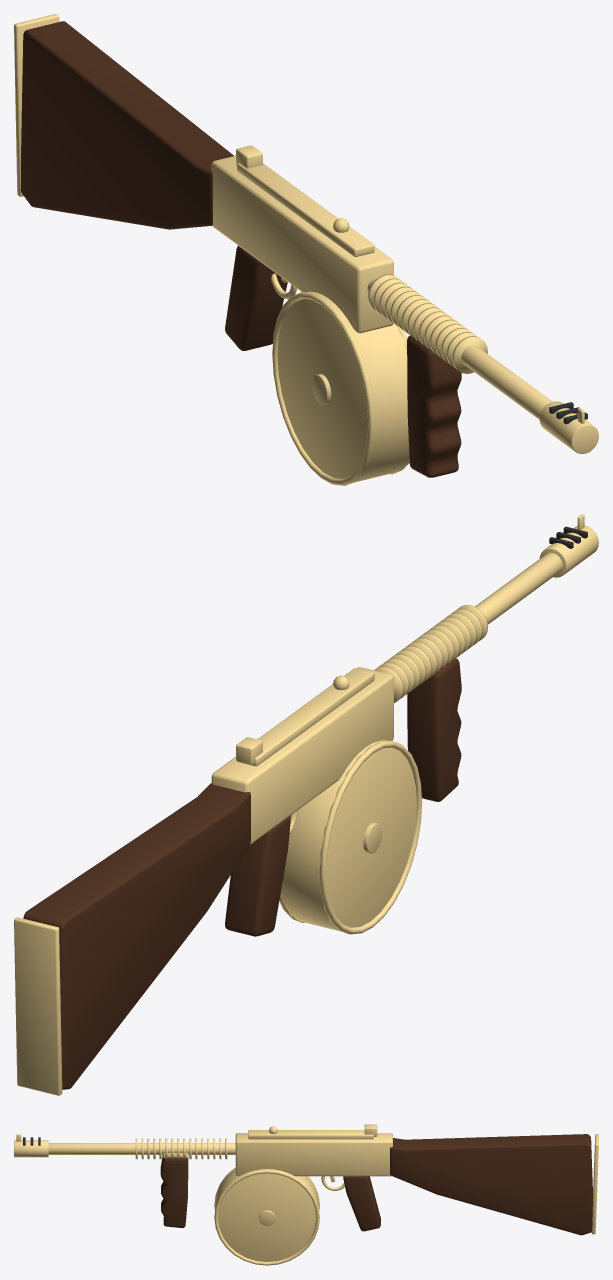
The model's file is thompson_gold.glb.
The picture shows the model from 3 angles, top to bottom: view 1: azimuth 30°, elevation 25°; view 2: azimuth 150°, elevation 25°; view 3: azimuth 270°, elevation 25°; orthographic projection. The views are drawn at different scales.
Parts seen in each view (by area): view 1: Stock, Drum, Receiver, ForeGrip, PistolGrip, ReceiverRail, DrumRim2, Barrel, Compensator, ButtPlate; view 2: Stock, Drum, Receiver, ButtPlate, ForeGrip, PistolGrip, DrumRim2, ReceiverRail, Barrel, Compensator; view 3: Stock, Drum, Receiver, Barrel, ForeGrip, PistolGrip, DrumRim, ReceiverRail, Compensator, ButtPlate, DrumKey.
Boxes of the visible parts, box(x1,y1,x2,y2) form: Stock: box(20, 21, 233, 229); Drum: box(277, 291, 409, 482); Receiver: box(211, 155, 393, 333); ForeGrip: box(407, 335, 461, 477); PistolGrip: box(225, 245, 287, 350); ReceiverRail: box(237, 163, 374, 256); DrumRim2: box(272, 292, 374, 485); Barrel: box(367, 276, 552, 419); Compensator: box(539, 401, 598, 453); ButtPlate: box(14, 14, 59, 196); Stock: box(23, 783, 250, 1089); Drum: box(280, 740, 416, 931); Receiver: box(211, 667, 393, 844); ButtPlate: box(14, 917, 62, 1095); ForeGrip: box(407, 658, 461, 801); PistolGrip: box(225, 816, 290, 936); DrumRim2: box(319, 740, 422, 934); ReceiverRail: box(238, 668, 374, 766); Barrel: box(394, 552, 562, 690); Compensator: box(539, 525, 598, 577); Stock: box(390, 1134, 592, 1235); Drum: box(215, 1168, 319, 1261); Receiver: box(235, 1133, 392, 1176); Barrel: box(48, 1143, 235, 1154); ForeGrip: box(160, 1155, 188, 1227); PistolGrip: box(343, 1176, 380, 1231); DrumRim: box(214, 1169, 319, 1265); ReceiverRail: box(248, 1130, 373, 1139); Compensator: box(14, 1140, 48, 1157); ButtPlate: box(591, 1134, 598, 1234); DrumKey: box(259, 1210, 275, 1225).
Bounding box in the file's own units: 0.054 × 0.234 × 0.9302.
